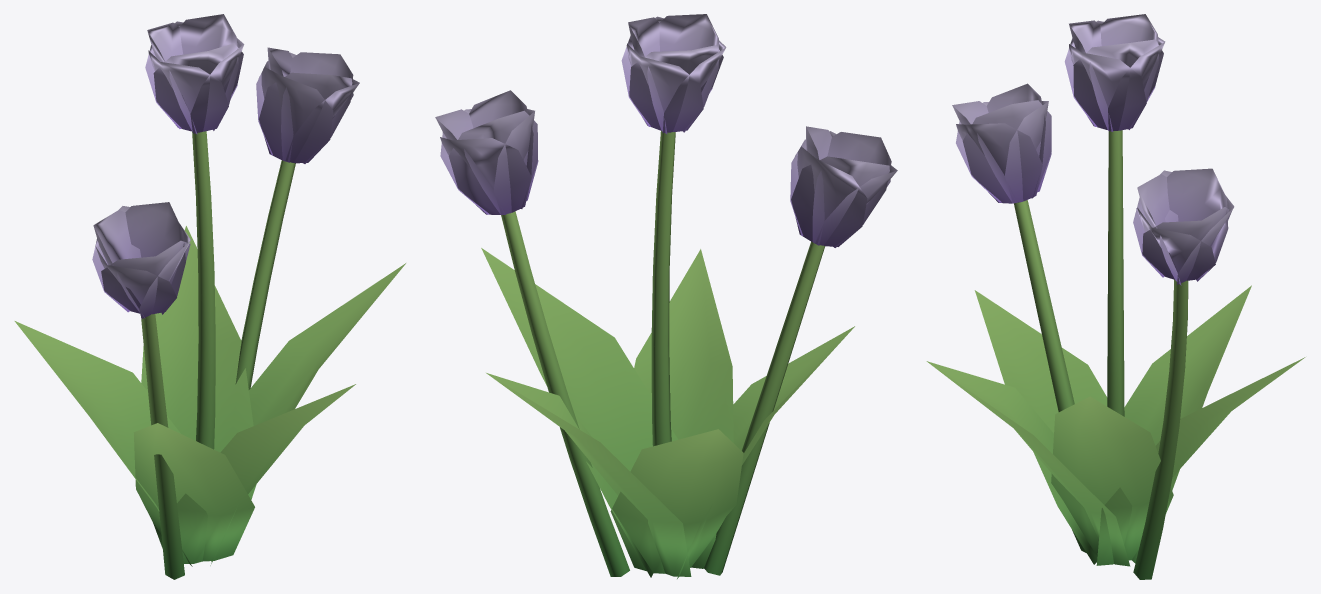
Rendered from flower_tulip_b.glb.
The picture shows the model from 3 angles, left to right: view 1: azimuth 30°, elevation 25°; view 2: azimuth 150°, elevation 25°; view 3: azimuth 270°, elevation 25°; orthographic projection. The views are drawn at different scales.
Parts seen in each view (by area): view 1: flower_tulip_b; view 2: flower_tulip_b; view 3: flower_tulip_b.
Part boxes in pixels (x1,y1,x2,y2): flower_tulip_b: (14,14,405,579); flower_tulip_b: (435,14,897,578); flower_tulip_b: (926,14,1305,579).
Size of the model in its own units: 0.4246 by 0.6139 by 0.3972.
